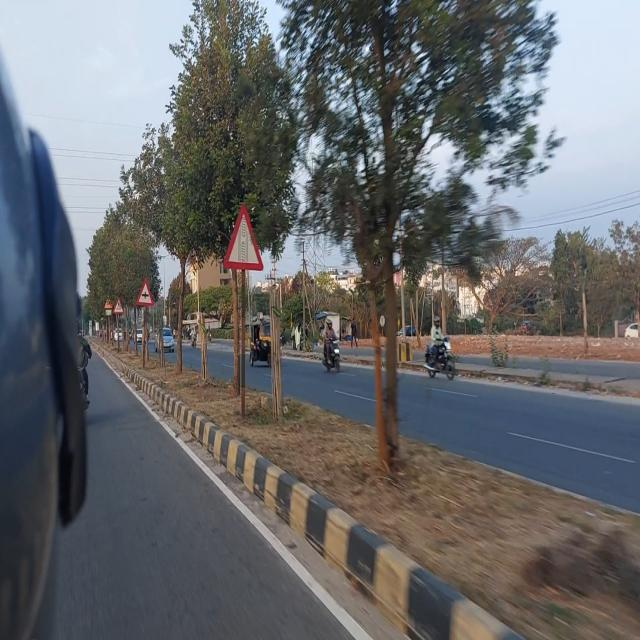bien_cam: (223, 200, 265, 272), (135, 278, 154, 308)
